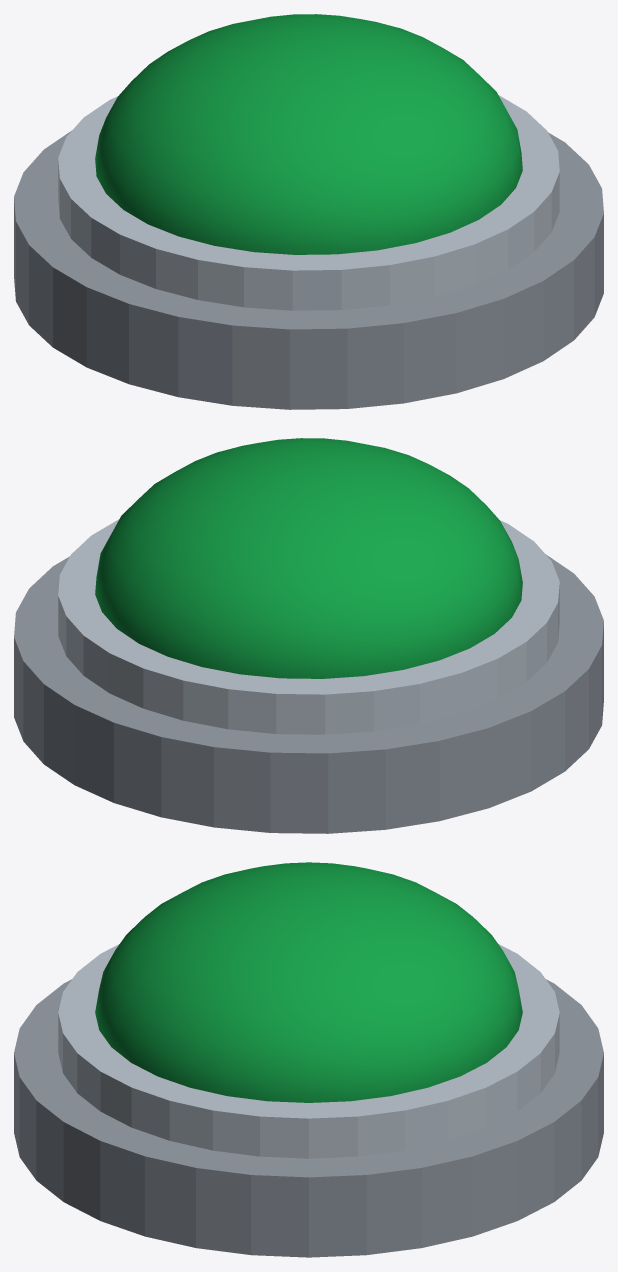
File: Lampara_Piloto_Verde.fbx
The picture shows the model from 3 angles, top to bottom: view 1: azimuth 30°, elevation 25°; view 2: azimuth 150°, elevation 25°; view 3: azimuth 270°, elevation 25°; orthographic projection.
Parts seen in each view (by area): view 1: lente_lamparaVerde, Base_Lampara, Aro_Metalico; view 2: lente_lamparaVerde, Base_Lampara, Aro_Metalico; view 3: lente_lamparaVerde, Base_Lampara, Aro_Metalico.
Boxes of the visible parts, x1,y1,x2,y2 form: lente_lamparaVerde: (95,14,522,254); Base_Lampara: (14,130,603,409); Aro_Metalico: (58,95,559,310); lente_lamparaVerde: (95,438,522,678); Base_Lampara: (14,554,603,833); Aro_Metalico: (58,519,559,734); lente_lamparaVerde: (95,862,522,1102); Base_Lampara: (14,979,603,1257); Aro_Metalico: (58,944,559,1158).
Size of the model in its own units: 4 by 1.8 by 4.
